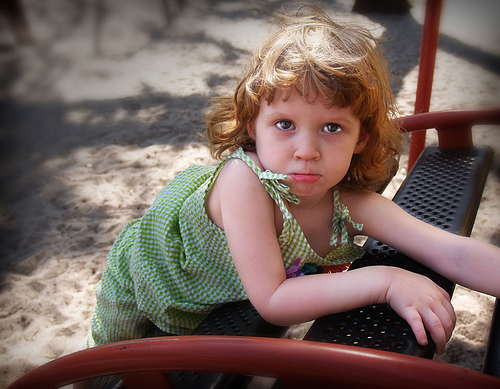without_mask: (245, 79, 373, 197)
